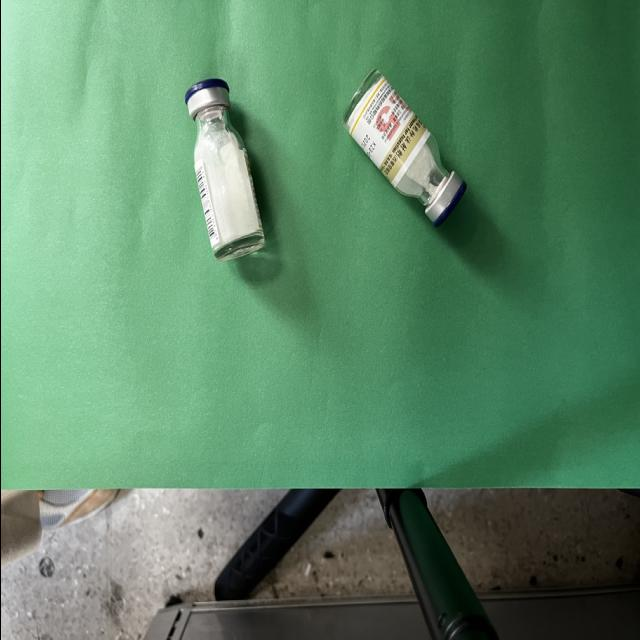Vials: (343, 71, 464, 225), (184, 79, 264, 261)
